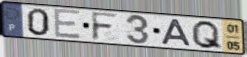0: (26, 7, 52, 37)
3: (124, 14, 150, 46)
A: (160, 18, 193, 48)
E: (52, 7, 83, 40)
F: (90, 11, 120, 42)
Q: (190, 20, 224, 51)
